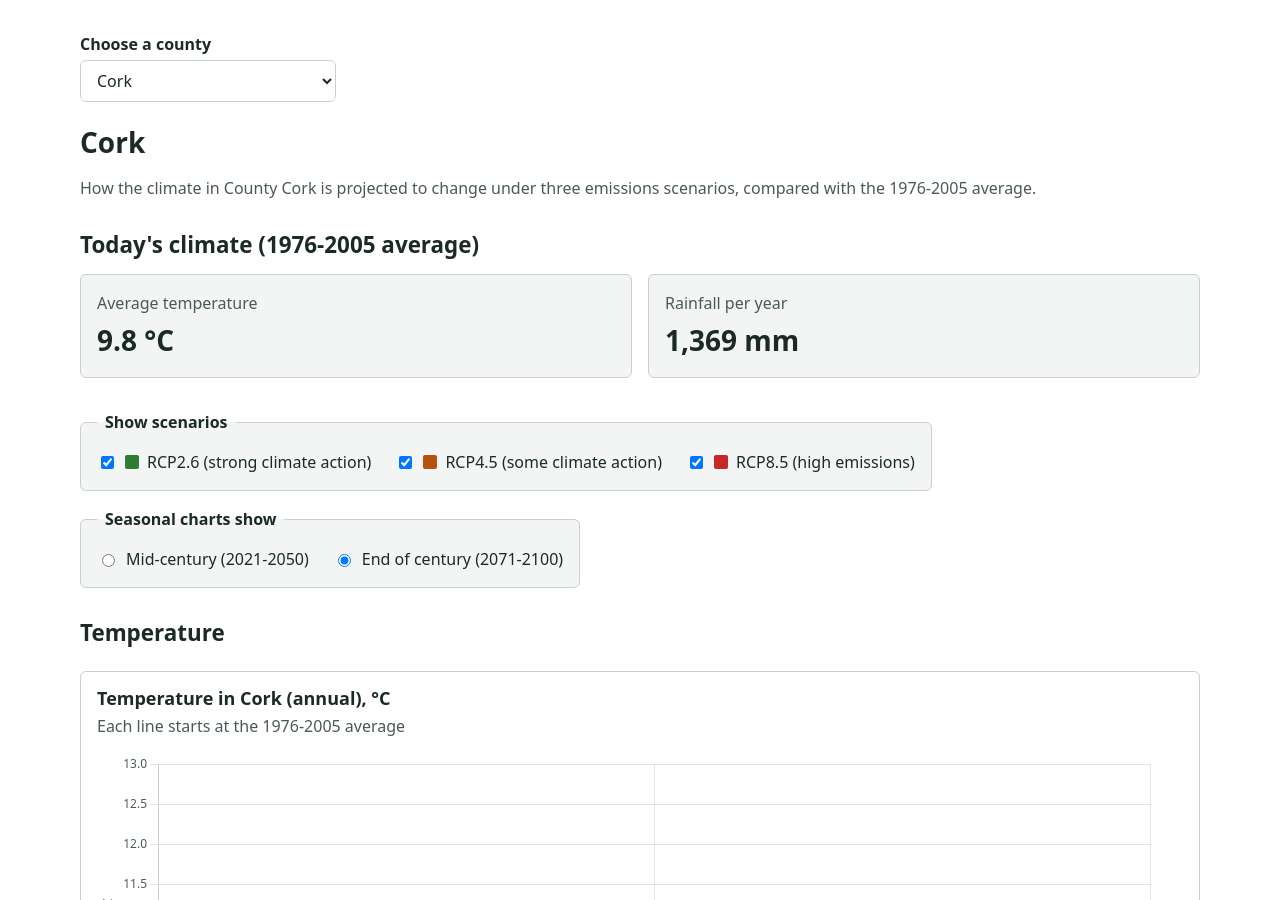
Test: CountyDashboard › keeps the dropdown on screen while the new county loads, without reloading the county list
The width and height of the screenshot is (1280, 900).
Select "Kerry" in the dropdown labelled "Choose a county" at (208, 81), box left=80, top=60, right=336, bottom=102
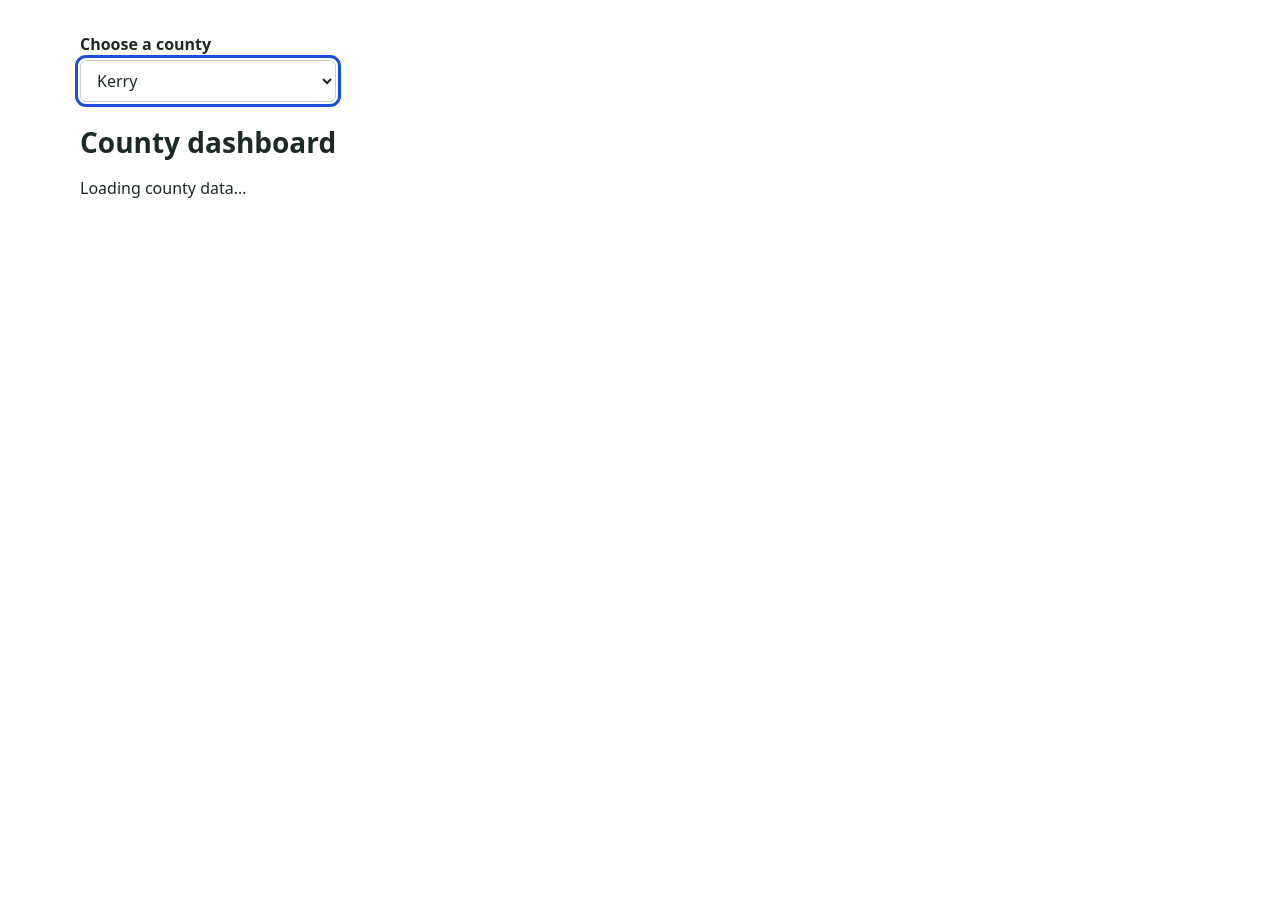
Expected: the message reads "Loading county data…", left=80, top=177, right=246, bottom=199
